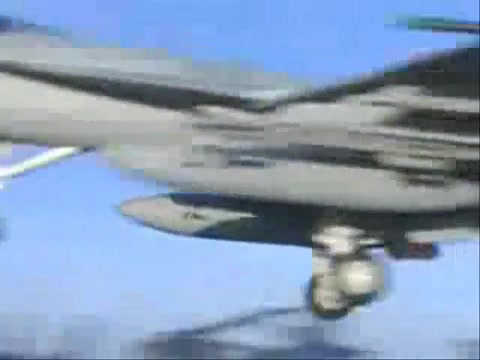aeroplane: (1, 13, 480, 321)
